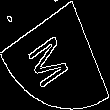M_NE: (30, 22, 80, 88)
